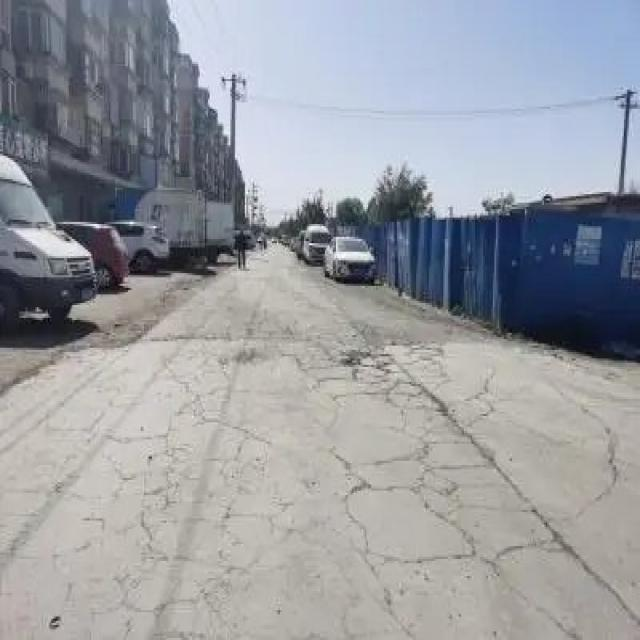Pothole: (332, 335, 410, 375)
